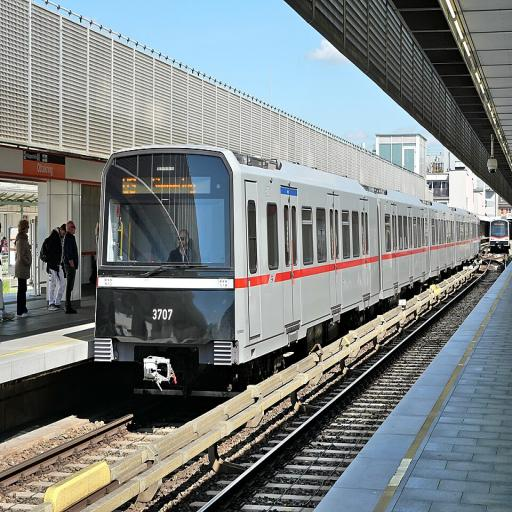X-Wagen: (88, 139, 482, 386)
